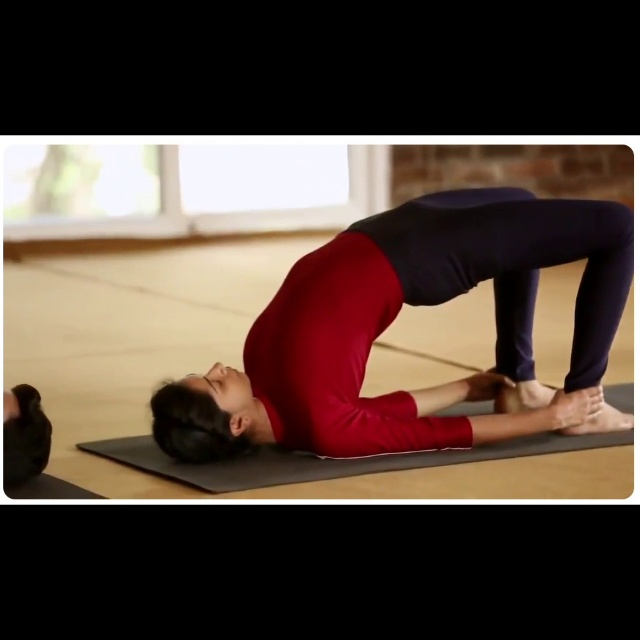Bridge_Pose: (141, 180, 633, 462)
